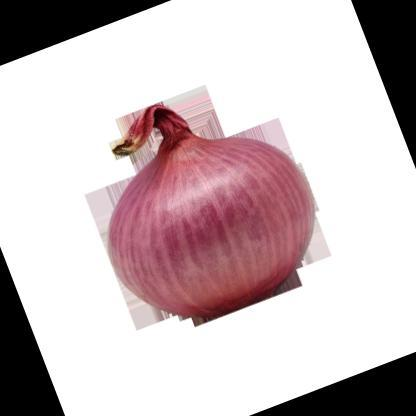onion: (50, 39, 373, 370)
